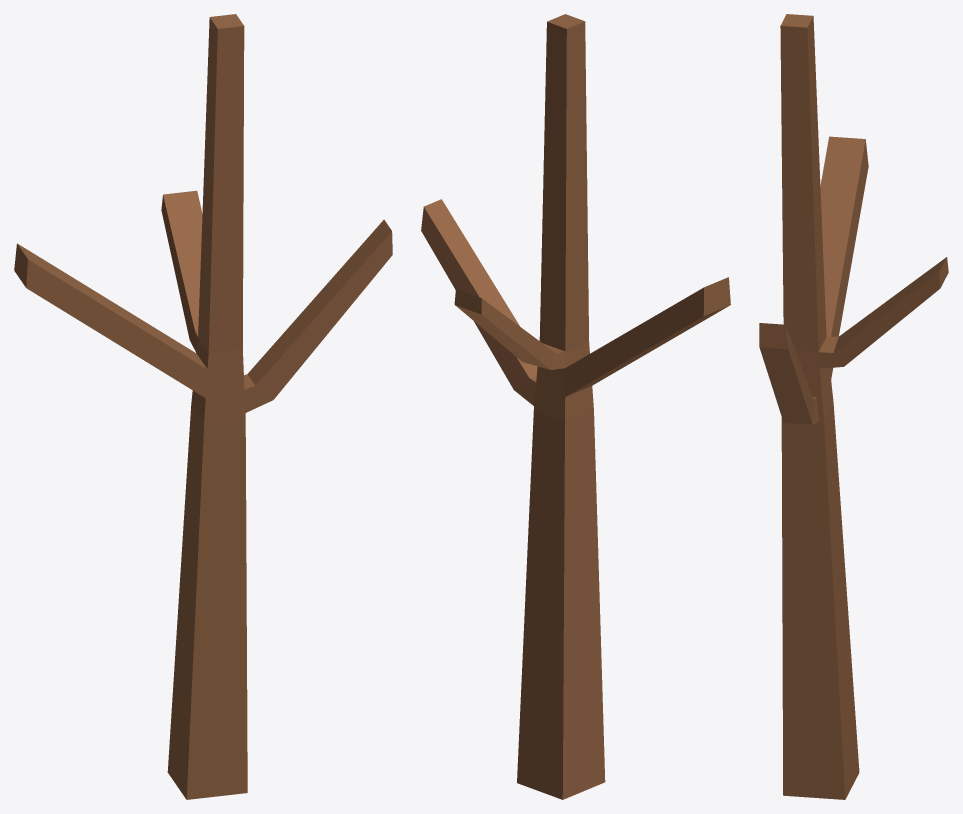
The model's file is tree-summer-trunk-013.glb.
3 views of the same model, side by side, from view 1: azimuth 30°, elevation 25°; view 2: azimuth 150°, elevation 25°; view 3: azimuth 270°, elevation 25° (orthographic). The views are drawn at different scales.
Parts seen in each view (by area): view 1: Circle.015_233; view 2: Circle.015_233; view 3: Circle.015_233.
Part boxes in pixels (box(x1,y1,x2,y2)): Circle.015_233: box(14, 14, 392, 799); Circle.015_233: box(421, 14, 730, 799); Circle.015_233: box(759, 14, 948, 799).
Bounding box in the file's own units: 0.5112 × 1.12 × 0.2492.
